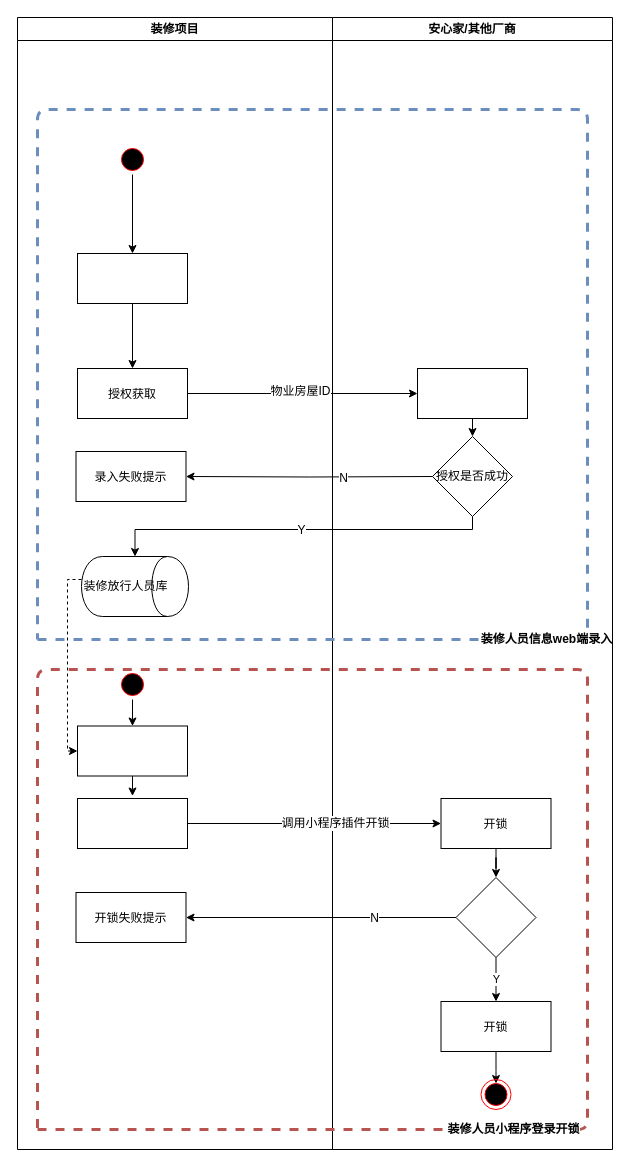
This 630x1167 diagram has some shape labels left out. Here are the shapes that lost their labels. From the top down, the centre of each, then its label:
the point at 132,278: 录入通行人员信息
the point at 472,393: 授权
the point at 132,750: 小程序登录
the point at 132,823: 小程序开锁
the point at 495,917: 是否有权
